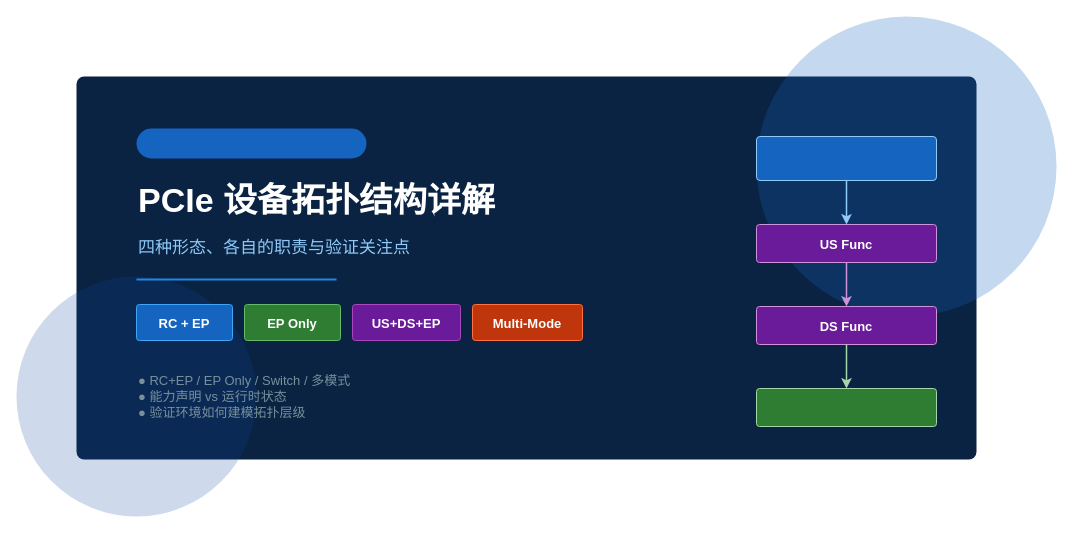
Some shapes in this 1073 by 533 pixel diagram are drawn without their labels. Here are the shapes that lost their labels. From the top down, the centre of each, then its label:
At point 251,143: "芯片验证 · PCIe · 设备拓扑".
At point 846,158: "Host".
At point 846,407: "EP Functions".
